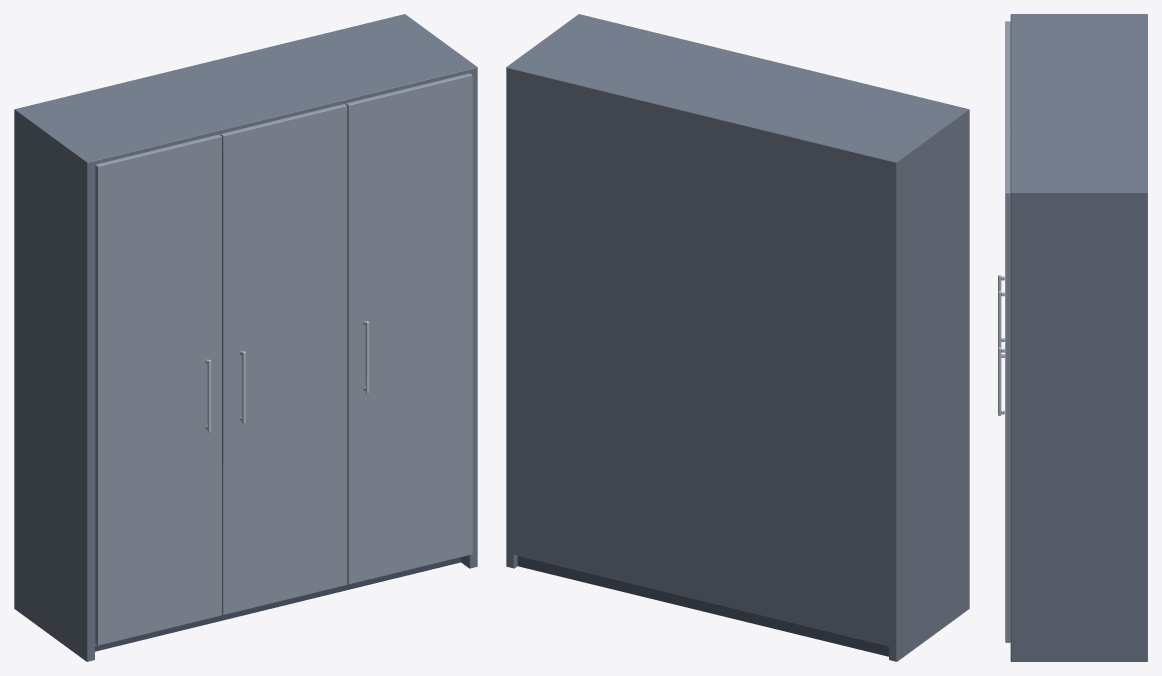
Rendered from wardrobe-lite.glb.
3 views of the same model, side by side, from view 1: azimuth 30°, elevation 25°; view 2: azimuth 150°, elevation 25°; view 3: azimuth 270°, elevation 25° (orthographic). The views are drawn at different scales.
Parts seen in each view (by area): view 1: wardrobe; view 2: wardrobe; view 3: wardrobe.
Boxes of the visible parts, box(x1,y1,x2,y2) form: wardrobe: box(14, 14, 477, 661); wardrobe: box(506, 14, 969, 661); wardrobe: box(998, 14, 1147, 661).
Bounding box in the file's own units: 1.8 × 2.2 × 0.637.
